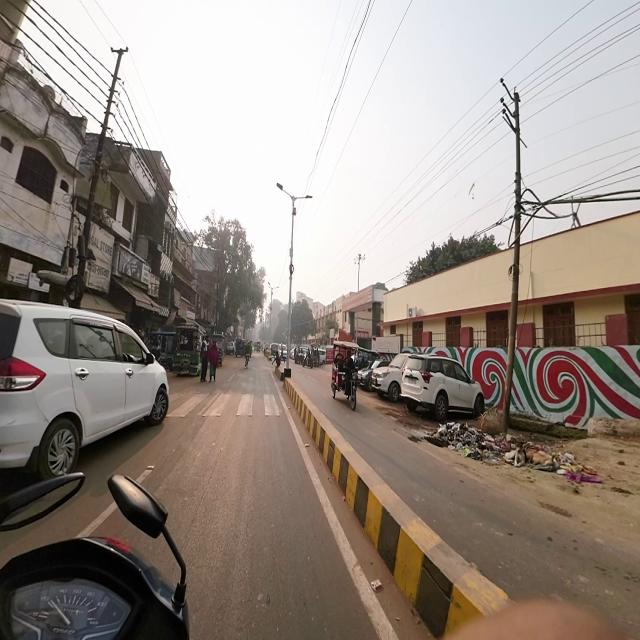Garbage: (508, 434, 597, 482), (428, 420, 504, 456)
